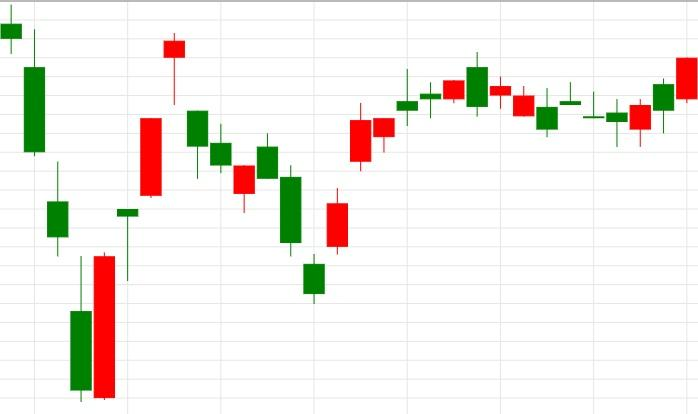bearish_engulfing_fall: (326, 51, 488, 255)
evening_star_fall: (93, 32, 208, 401)
